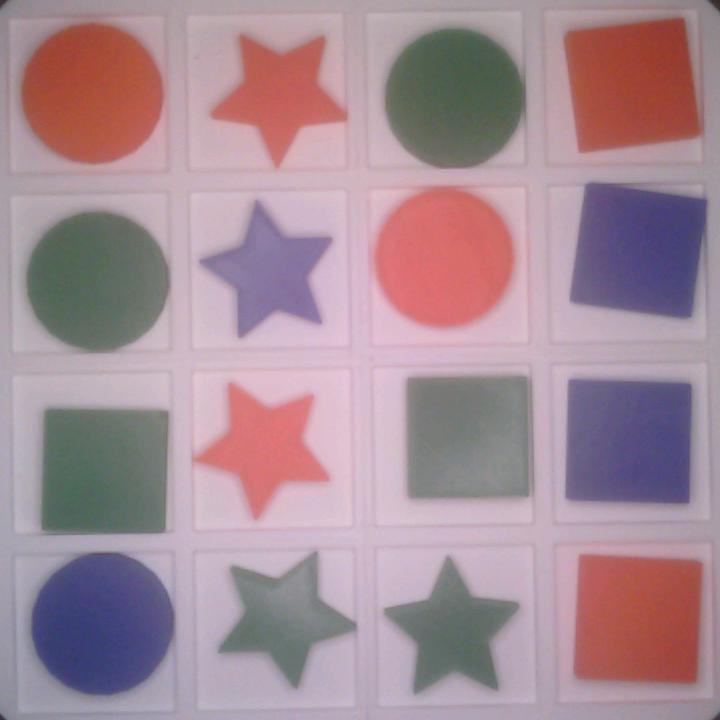Blue circle: (30, 554, 173, 693)
Blue square: (572, 175, 708, 324), (560, 376, 696, 510)
Blue star: (200, 202, 339, 337)
Green circle: (384, 29, 523, 163), (28, 212, 167, 345)
Green square: (403, 373, 534, 504), (39, 406, 168, 532)
Green star: (381, 554, 526, 695), (214, 549, 351, 688)
Orange circle: (23, 20, 164, 165), (372, 190, 516, 327)
Orange square: (561, 17, 700, 158), (569, 549, 704, 684)
Orange star: (196, 379, 330, 527), (210, 34, 345, 165)
